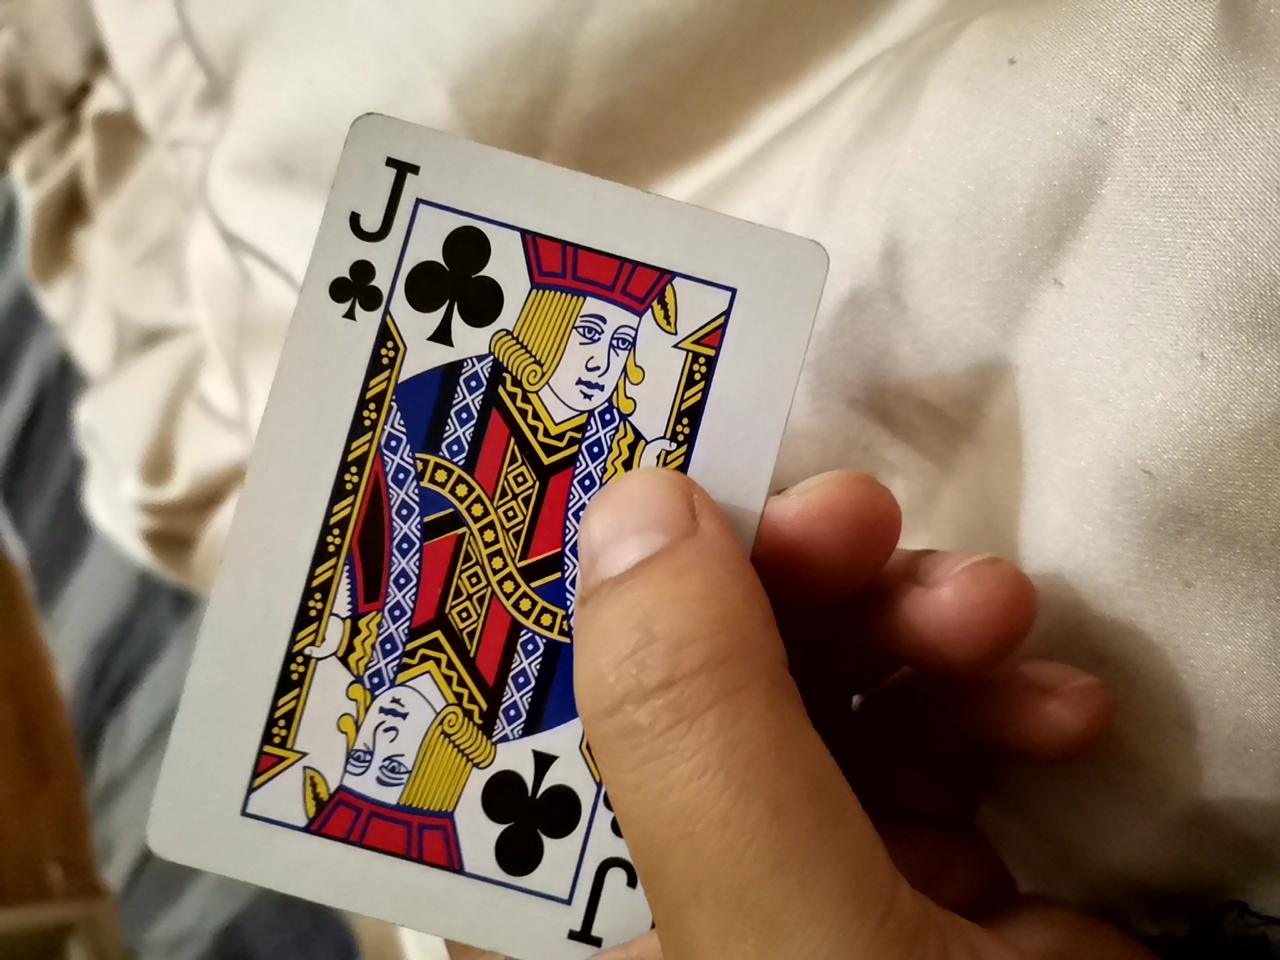mh j: (169, 76, 852, 946)
